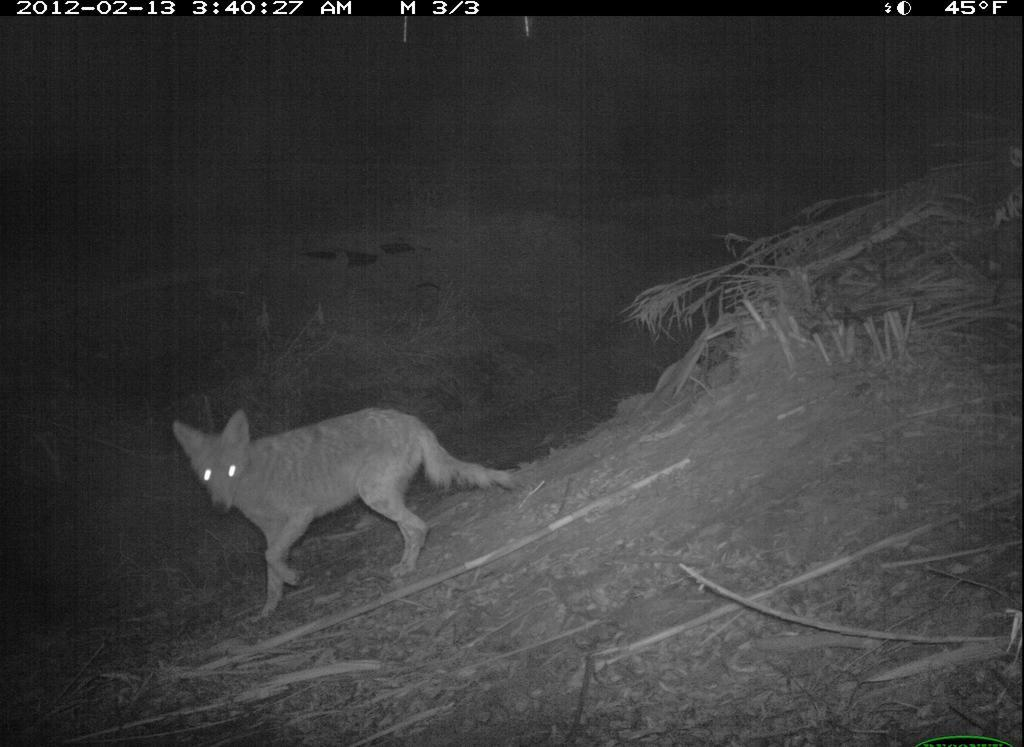coyote: (163, 399, 532, 637)
